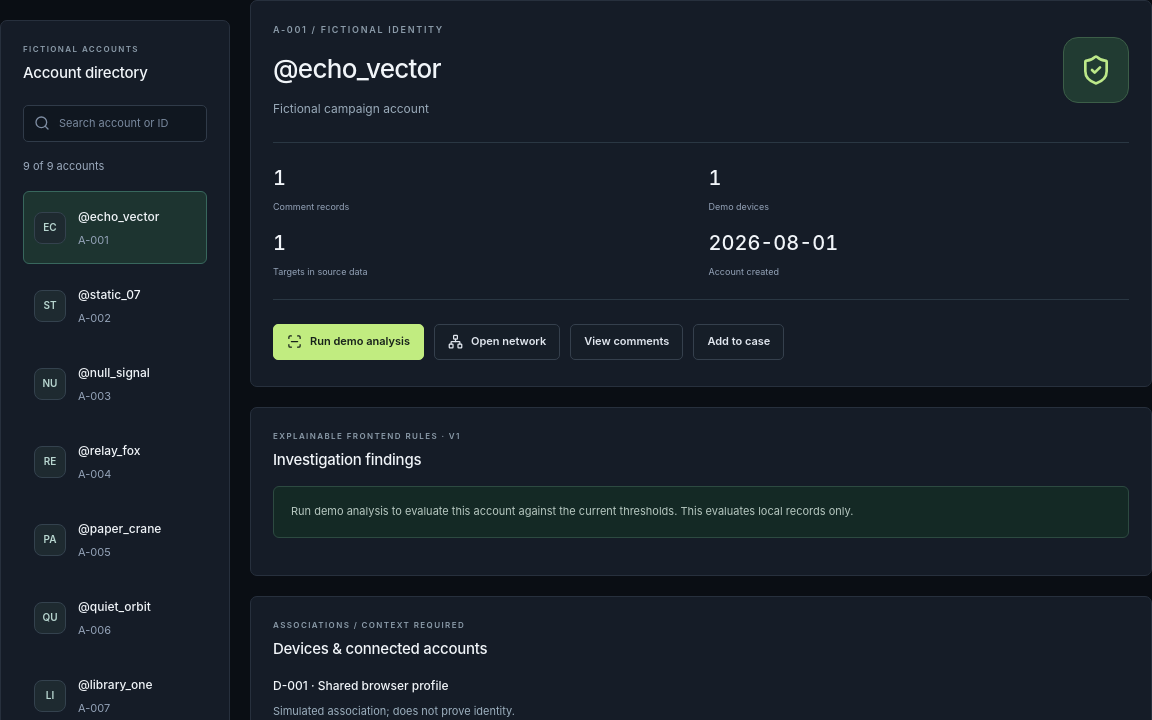
Test: account directory accepts case-insensitive account IDs
In the field labelled "Search account or ID": x=128, y=123 [59, 106, 196, 140], type "a-004"
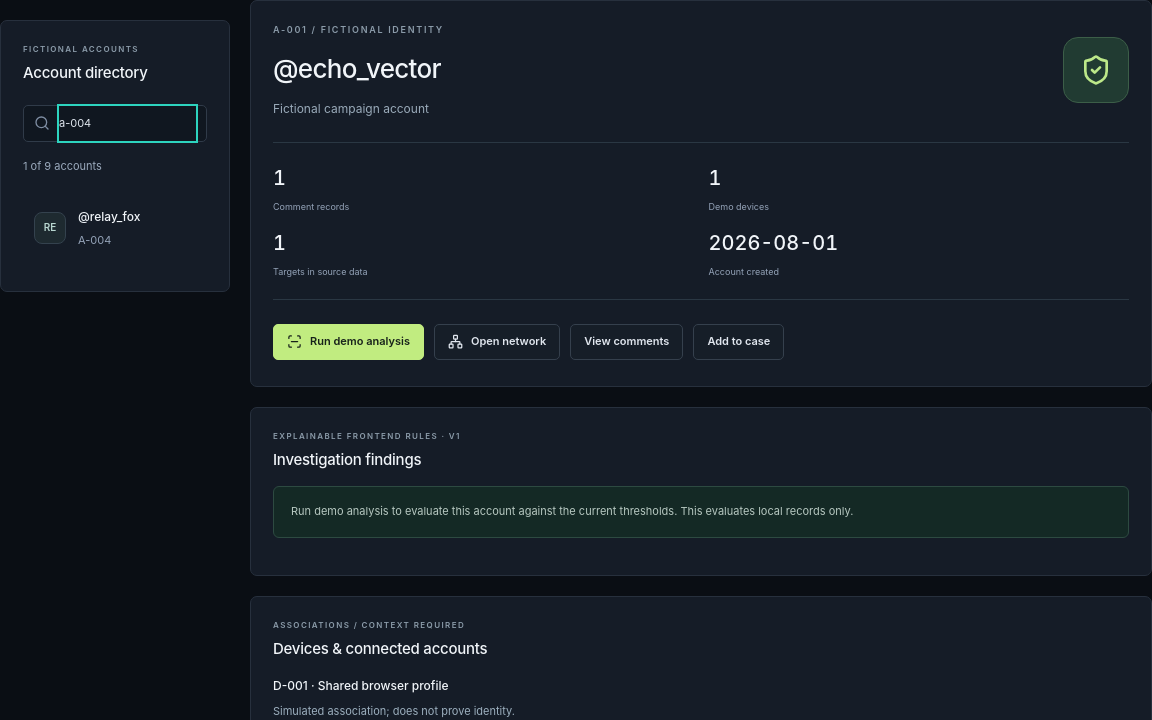
Expected: the link "RE @relay_fox A-004" is shown, [34, 209, 140, 247]
Result: the text "1 of 9 accounts" is shown at [23, 158, 102, 172]
